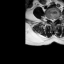CCS_severe_stenosis: (52, 16, 53, 25)
LFS_stenosis: (55, 15, 57, 21)
LLS_normal: (53, 16, 55, 23)
RFS_stenosis: (48, 15, 50, 22)
RLS_stenosis: (50, 16, 52, 23)
